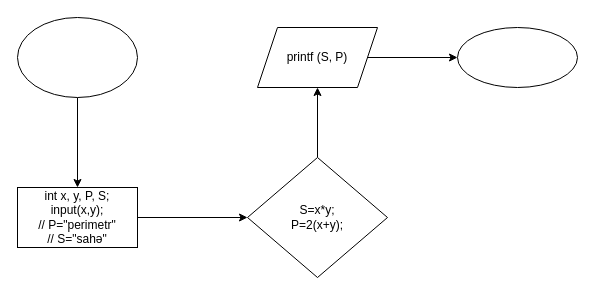
The diagram is 595 pixels wide and 295 high, and some of its shapes have lost their labels. The centre of each missing label's shape, as x and y in pixels:
"end!" goes at point 517,57.
"start!" goes at point 77,57.
